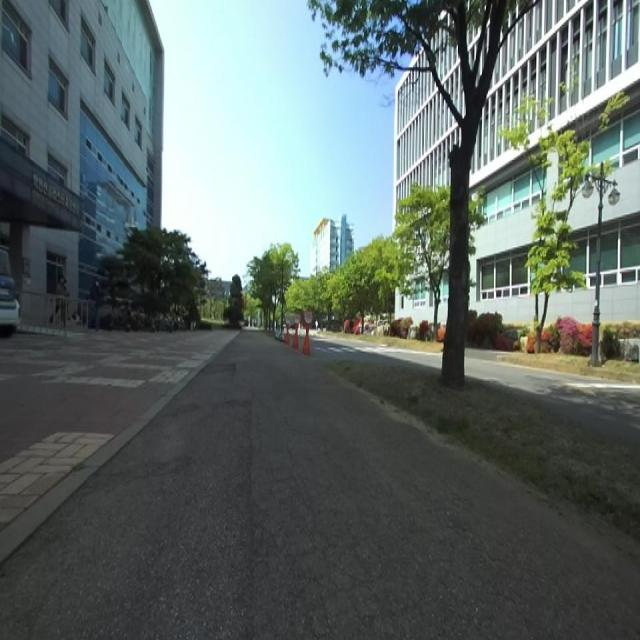sidewalk: (0, 332, 640, 638)
